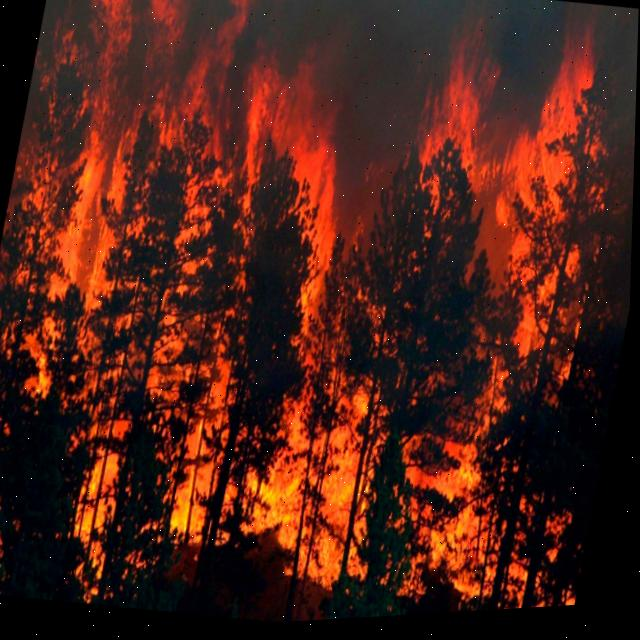fire: (0, 53, 623, 616)
smoke: (183, 0, 639, 250)
